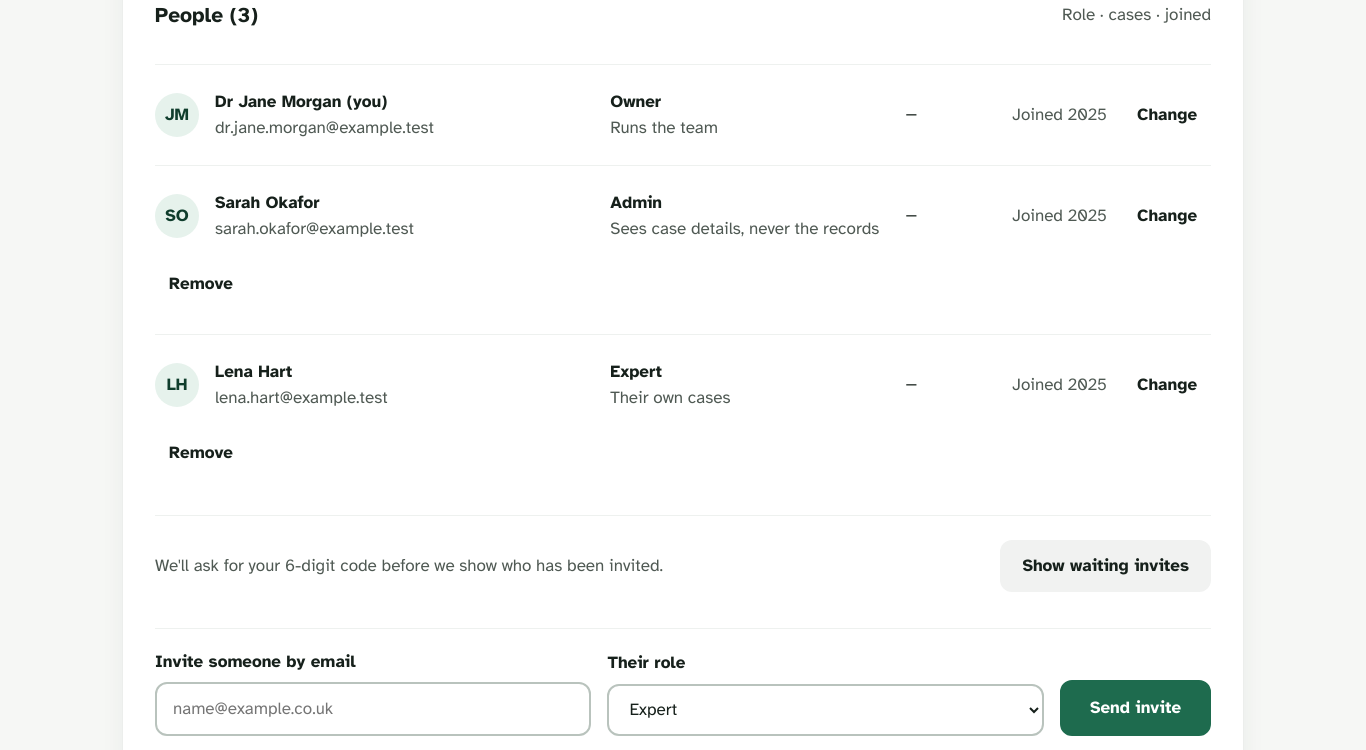
Test: changes a person's role
(page scrolled)
Click the button with aria-label "Change role for Lena Hart".
click(1167, 385)  # box [1123,359,1211,411]
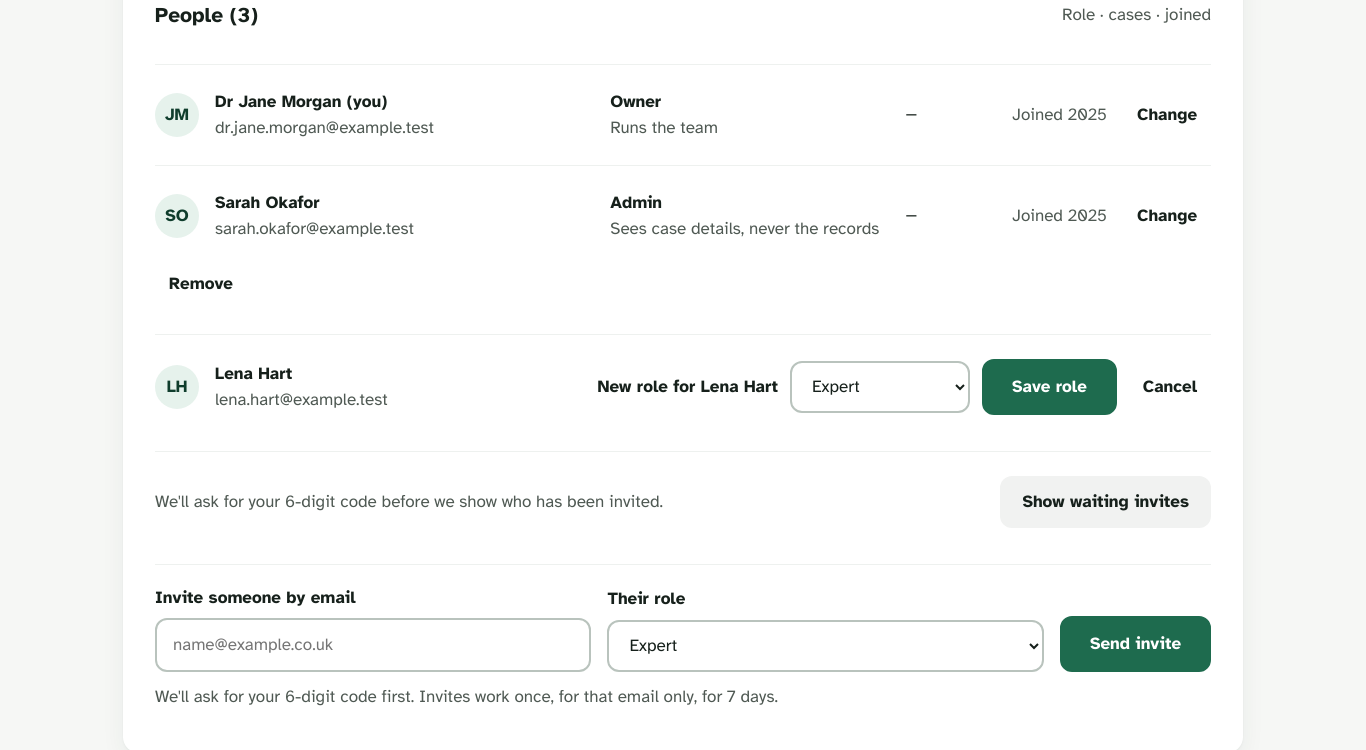
Select "Assistant" in the dropdown labelled "New role for Lena Hart" at [880, 387], box [790,361,970,413]
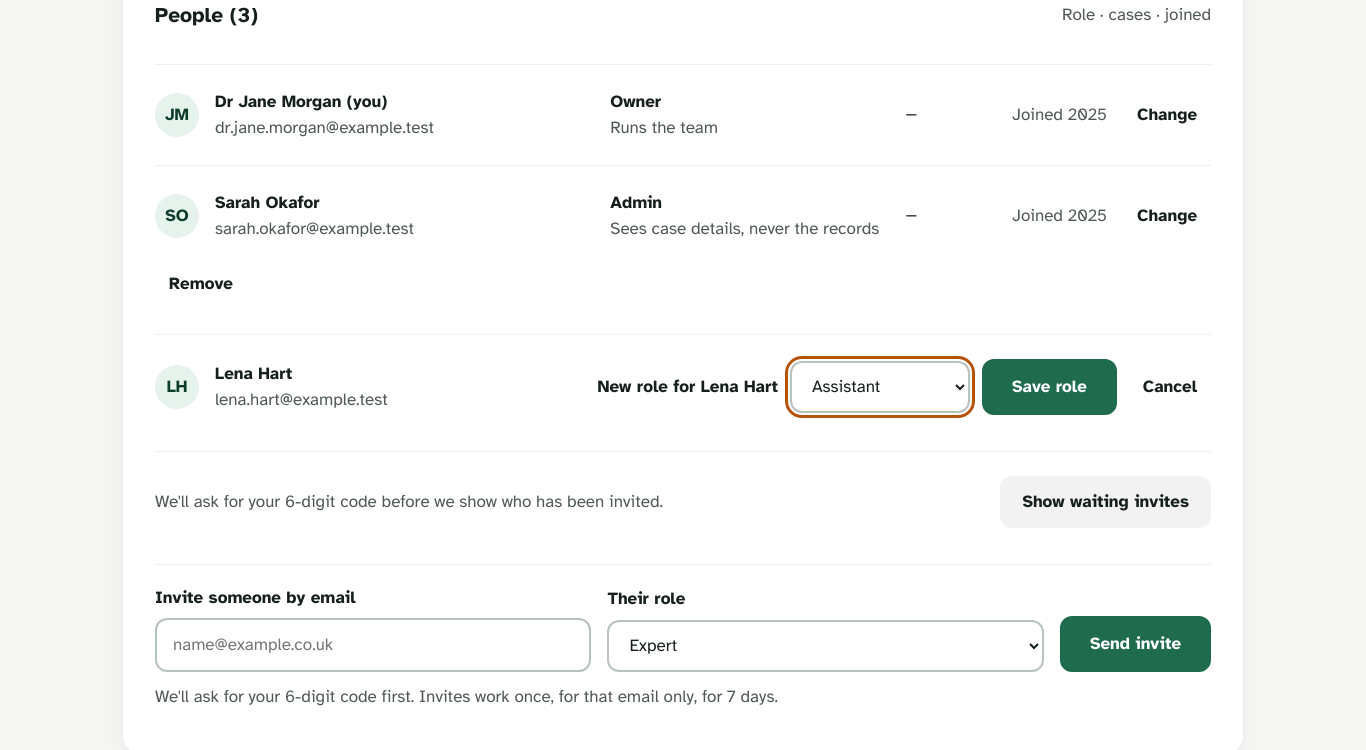
Click the button "Save role".
click(1049, 387)  # box [982,359,1117,415]
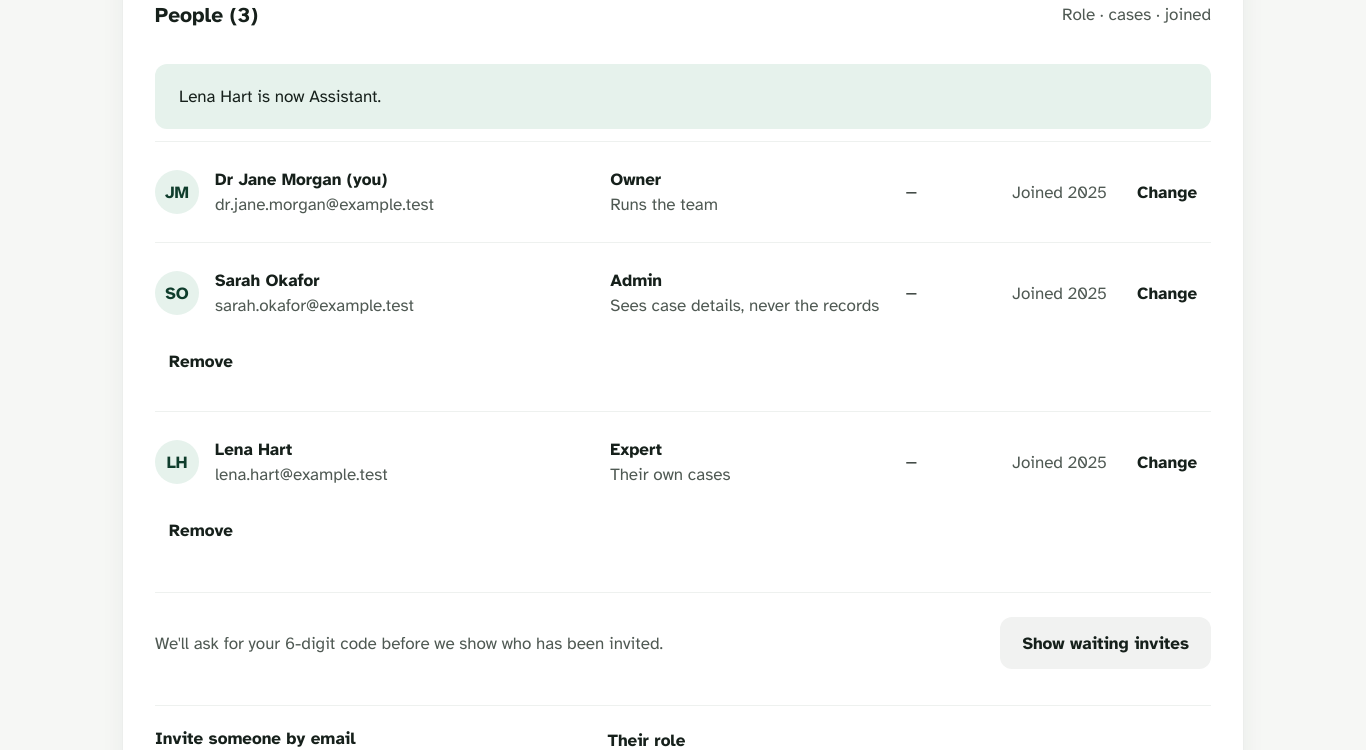
Check: the text "Lena Hart is now Assistant." is shown, box [179,86,381,107]
